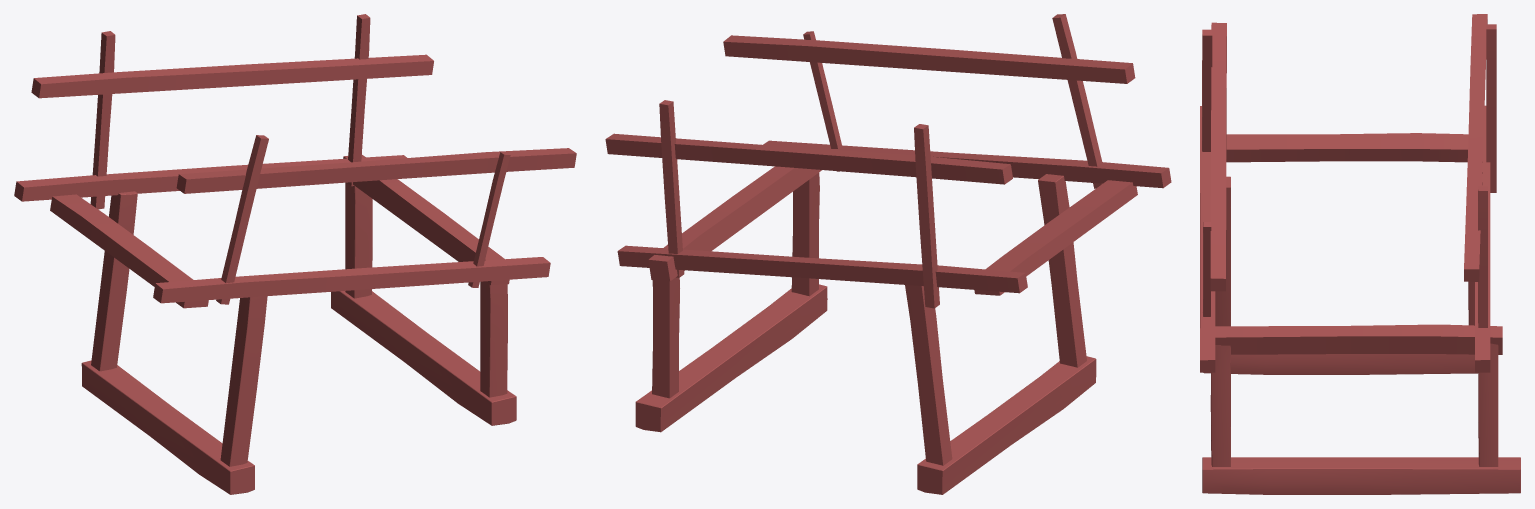
The model's file is Beam_Structure_18A_Lod0.fbx.
3 views of the same model, side by side, from view 1: azimuth 30°, elevation 25°; view 2: azimuth 150°, elevation 25°; view 3: azimuth 270°, elevation 25° (orthographic). The views are drawn at different scales.
Parts seen in each view (by area): view 1: Beam_Structure_18A_Lod0; view 2: Beam_Structure_18A_Lod0; view 3: Beam_Structure_18A_Lod0.
Part boxes in pixels (box(x1,y1,x2,y2)): Beam_Structure_18A_Lod0: box(14, 14, 576, 494); Beam_Structure_18A_Lod0: box(605, 14, 1171, 494); Beam_Structure_18A_Lod0: box(1200, 14, 1520, 494).
Size of the model in its own units: 164 by 131 by 109.
